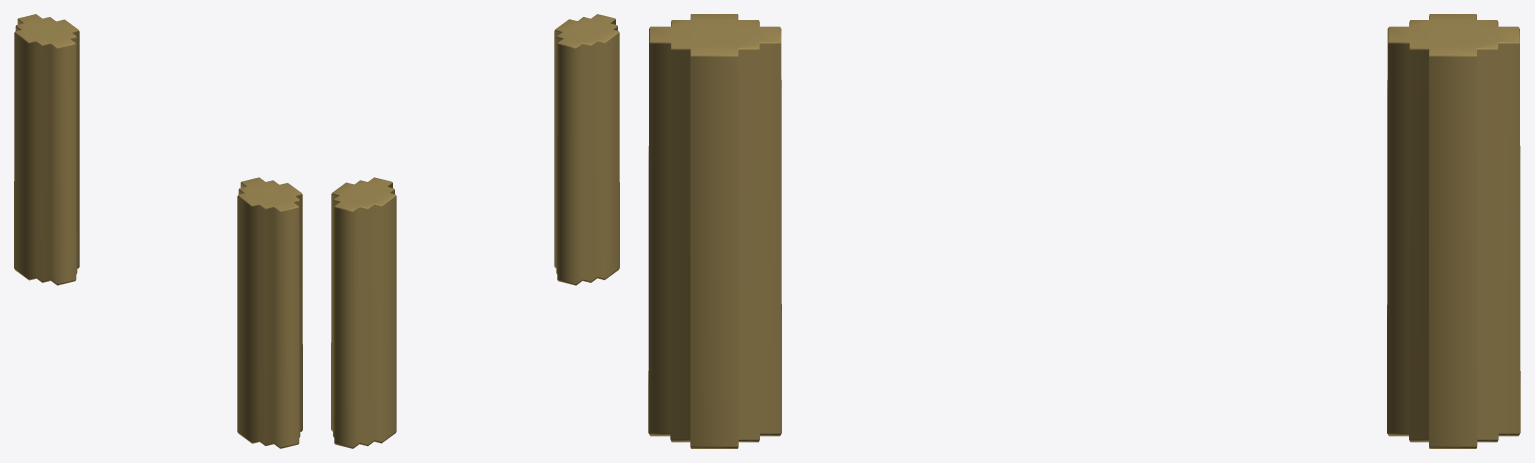
The model's file is Wall_Arc_06C_Lod0.fbx.
3 views of the same model, side by side, from view 1: azimuth 30°, elevation 25°; view 2: azimuth 150°, elevation 25°; view 3: azimuth 270°, elevation 25° (orthographic). The views are drawn at different scales.
Parts seen in each view (by area): view 1: Wall_Arc_06C_Lod0; view 2: Wall_Arc_06C_Lod0; view 3: Wall_Arc_06C_Lod0.
Part boxes in pixels (<box>): Wall_Arc_06C_Lod0: <box>14,14,302,448</box>; Wall_Arc_06C_Lod0: <box>331,14,619,448</box>; Wall_Arc_06C_Lod0: <box>648,14,1520,448</box>.
Bounding box in the file's own units: 67.22 × 300 × 600.
